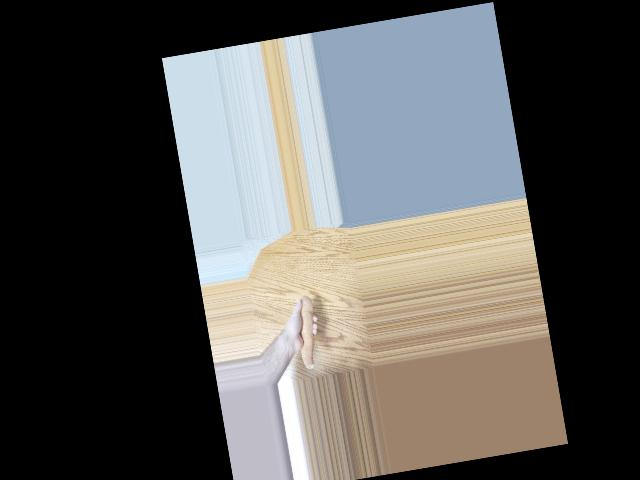sweet_potato: (290, 295, 325, 369)
